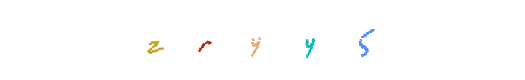5: (317, 0, 397, 80)
R: (164, 0, 244, 80)
Y: (222, 0, 302, 80), (269, 0, 349, 80)
Z: (157, 0, 237, 80)
